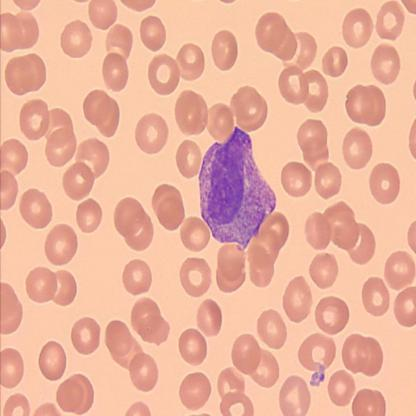Myelocyte: (200, 127, 276, 246)
